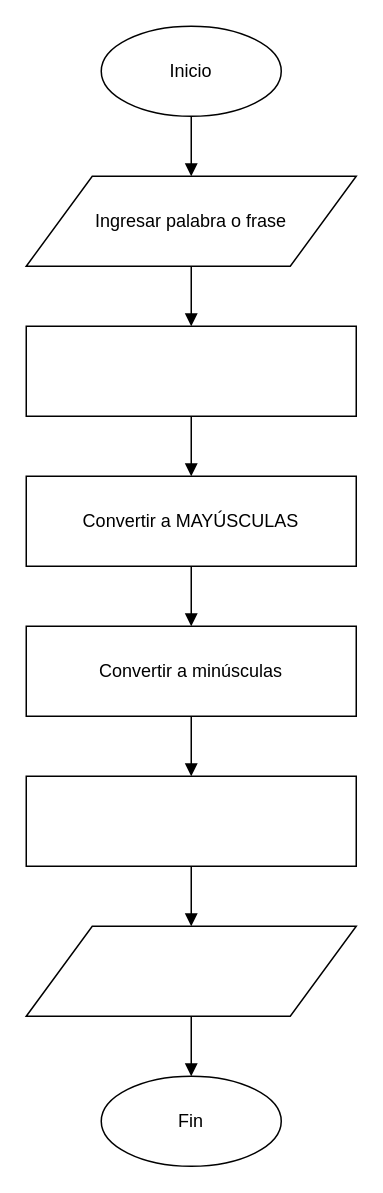
This 383x1193 diagram has some shape labels left out. The box of each missing label's shape, as (x1, y1, x2, y2) in pixels:
Contar caracteres: (25, 775, 356, 866)
Mostrar resultados: (25, 925, 356, 1016)
Mostrar texto original: (25, 325, 356, 416)
